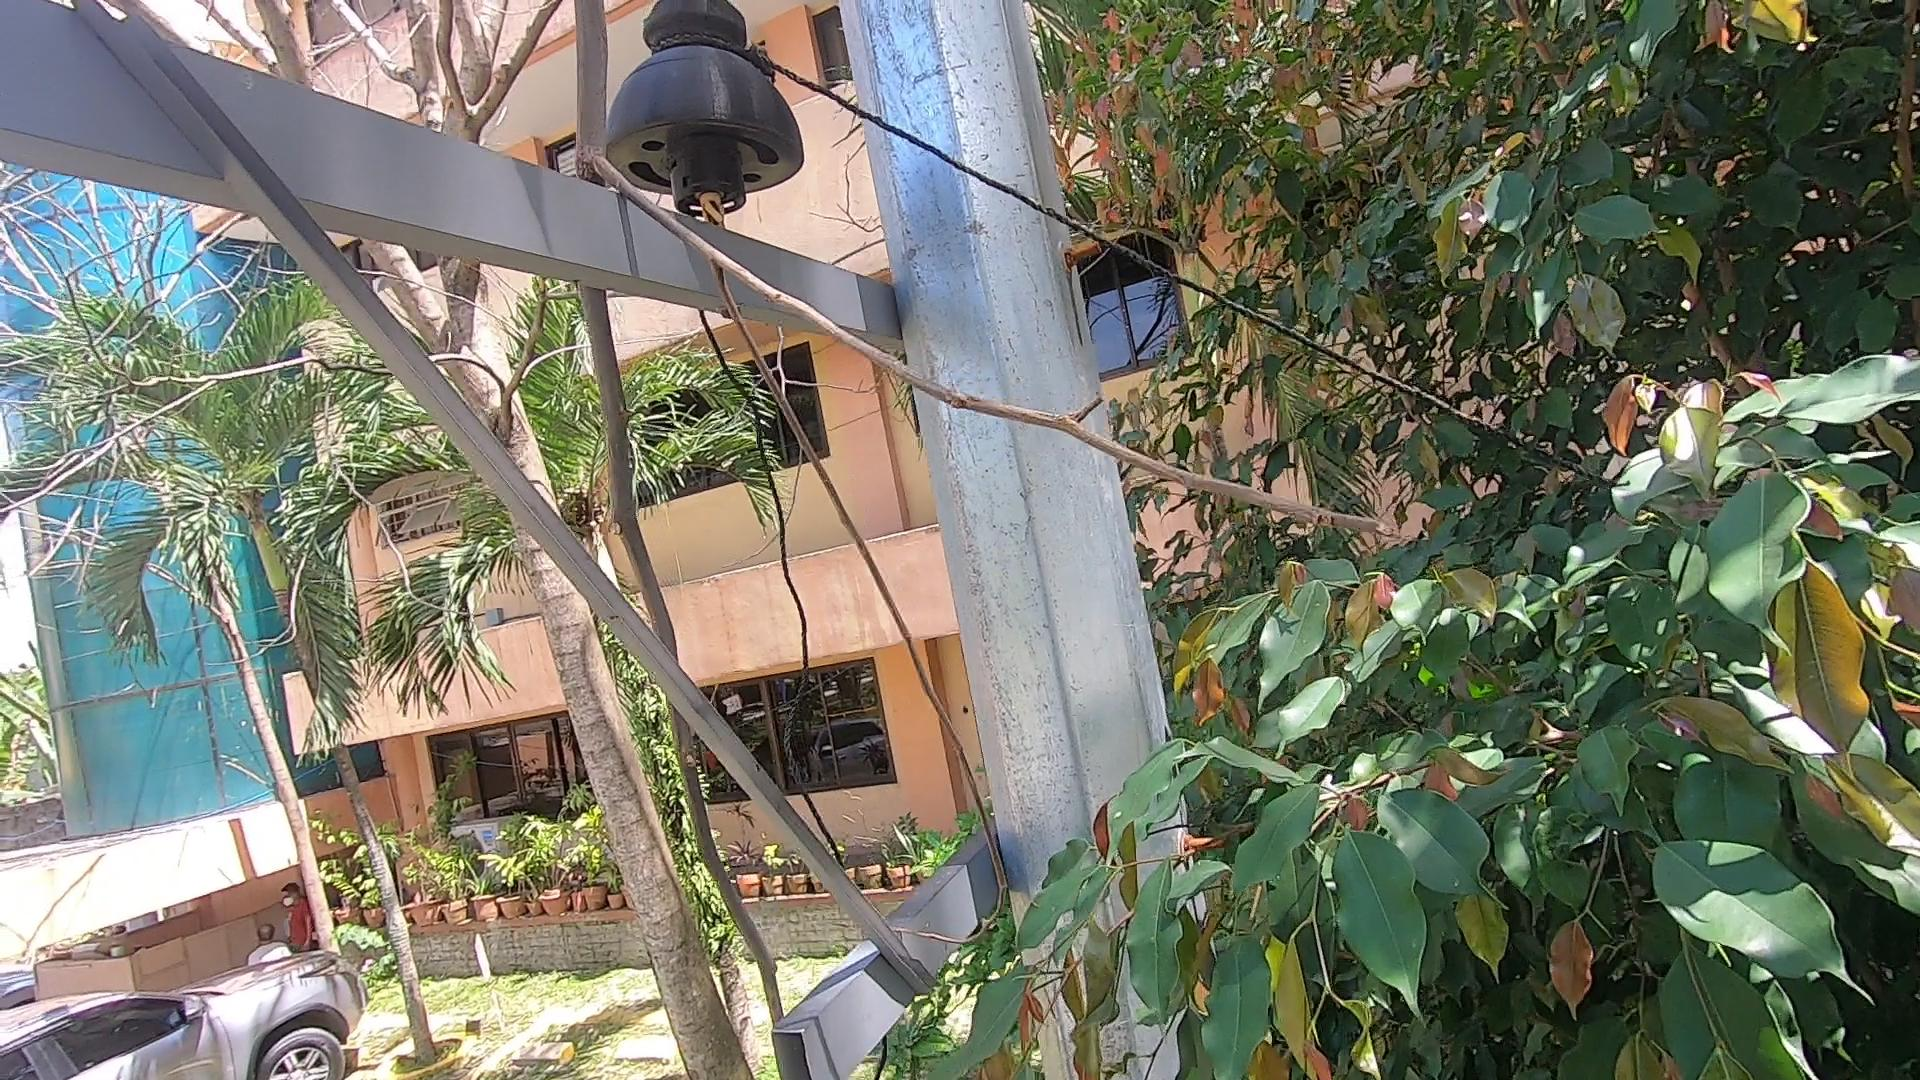tree branch: (506, 3, 1412, 1080)
